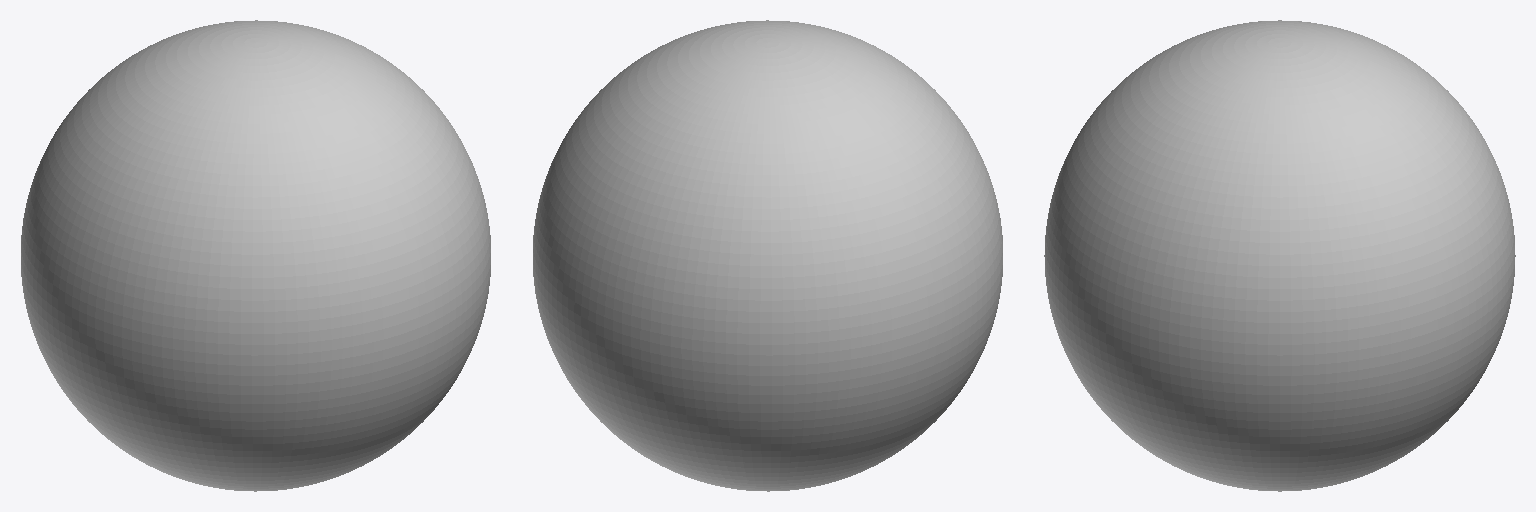
The model's file is skybox.obj.
3 renders of one model, left to right at view 1: azimuth 30°, elevation 25°; view 2: azimuth 150°, elevation 25°; view 3: azimuth 270°, elevation 25°, orthographic.
Parts seen in each view (by area): view 1: Sphere; view 2: Sphere; view 3: Sphere.
Boxes of the visible parts, box(x1,y1,x2,y2) form: Sphere: box(21, 20, 490, 491); Sphere: box(533, 20, 1002, 491); Sphere: box(1044, 20, 1515, 491).
Size of the model in its own units: 1958 by 1958 by 1958.